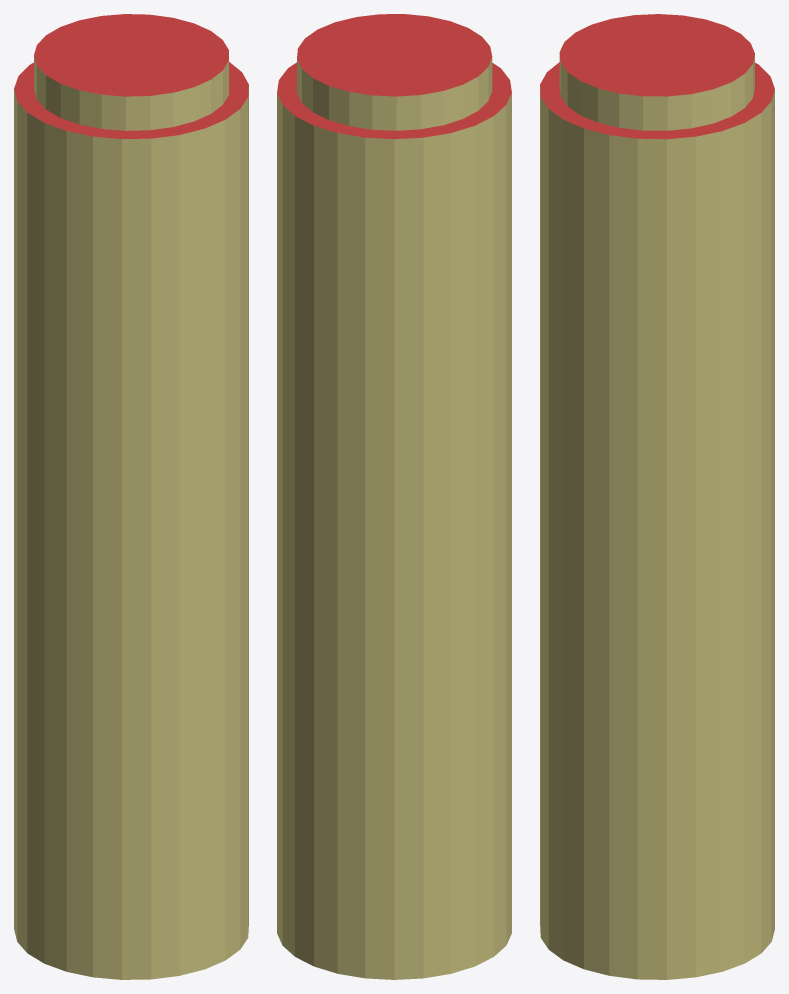
3 views of the same model, side by side, from view 1: azimuth 30°, elevation 25°; view 2: azimuth 150°, elevation 25°; view 3: azimuth 270°, elevation 25° (orthographic).
Size of the model in its own units: 5.96 by 5.96 by 24.5.
